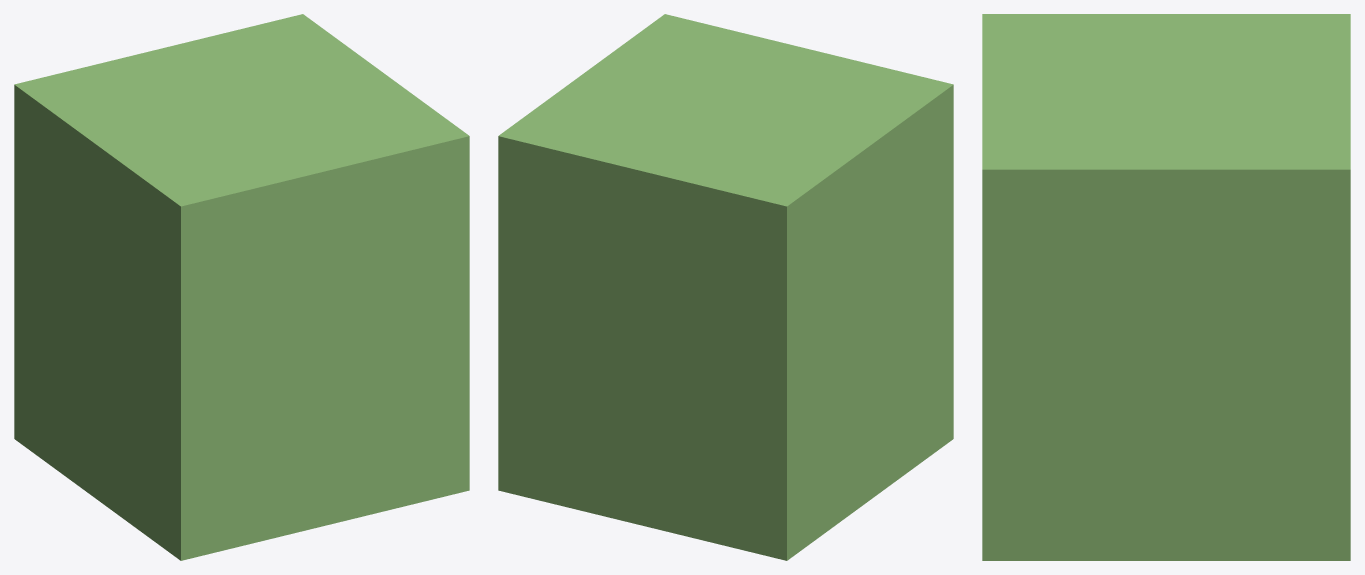
The model's file is dino_manga_sup.glb.
3 renders of one model, left to right at view 1: azimuth 30°, elevation 25°; view 2: azimuth 150°, elevation 25°; view 3: azimuth 270°, elevation 25°, orthographic. The views are drawn at different scales.
Parts seen in each view (by area): view 1: dino_manga_sup; view 2: dino_manga_sup; view 3: dino_manga_sup.
Boxes of the visible parts, x1,y1,x2,y2 form: dino_manga_sup: [14, 14, 469, 560]; dino_manga_sup: [498, 14, 953, 560]; dino_manga_sup: [982, 14, 1350, 560].
Bounding box in the file's own units: 0.29 × 0.34 × 0.29.
